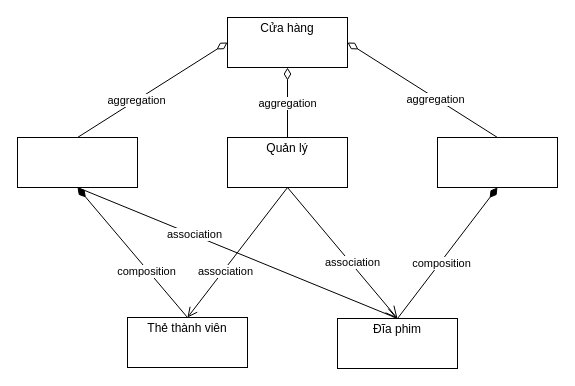
This 575x386 diagram has some shape labels left out. Each missing label, with the centre of its shape:
Khách hàng: (x=77, y=162)
Kệ đĩa: (x=497, y=162)
